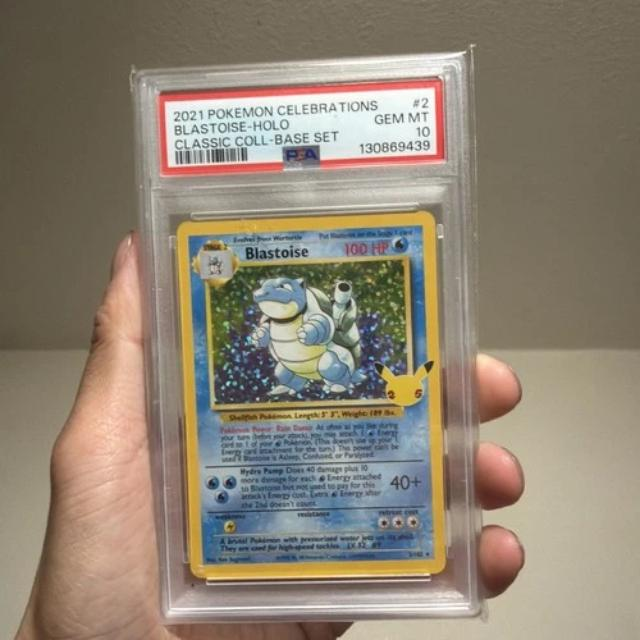Card: (170, 205, 449, 582)
Name: (239, 239, 314, 261)
